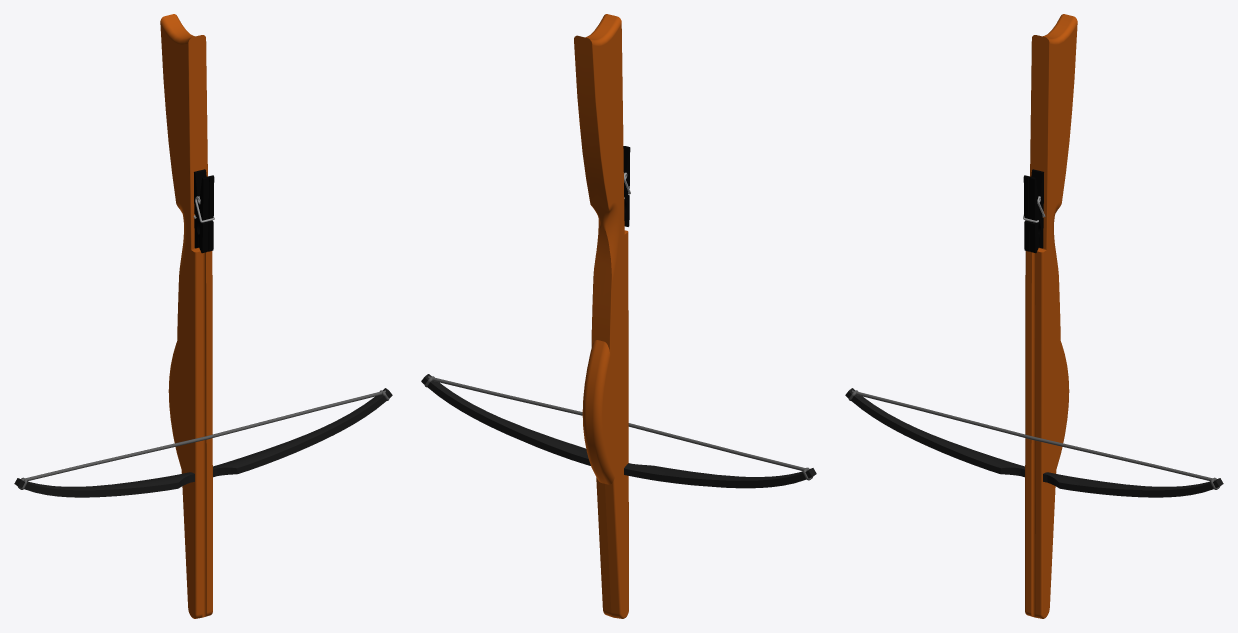
Rendered from АрбалетНеЗар.fbx.
3 views of the same model, side by side, from view 1: azimuth 30°, elevation 25°; view 2: azimuth 150°, elevation 25°; view 3: azimuth 330°, elevation 25° (orthographic). The views are drawn at different scales.
Parts seen in each view (by area): view 1: Основа, Левое плечо (распр), Правое плечо (распр), Тетива (распр), Верх прищепки (распр); view 2: Основа, Левое плечо (распр), Правое плечо (распр), Тетива (распр); view 3: Основа, Правое плечо (распр), Левое плечо (распр), Тетива (распр), Верх прищепки (распр).
Part boxes in pixels (bbox=[...]): Основа: bbox=[160, 14, 212, 618]; Левое плечо (распр): bbox=[213, 388, 392, 477]; Правое плечо (распр): bbox=[14, 472, 194, 497]; Тетива (распр): bbox=[17, 390, 389, 489]; Верх прищепки (распр): bbox=[198, 175, 214, 253]; Основа: bbox=[574, 14, 628, 618]; Левое плечо (распр): bbox=[421, 374, 590, 465]; Правое плечо (распр): bbox=[624, 463, 816, 488]; Тетива (распр): bbox=[424, 376, 812, 480]; Основа: bbox=[1025, 14, 1077, 618]; Правое плечо (распр): bbox=[845, 388, 1024, 477]; Левое плечо (распр): bbox=[1043, 472, 1223, 497]; Тетива (распр): bbox=[848, 390, 1220, 489]; Верх прищепки (распр): bbox=[1023, 175, 1039, 253].
Size of the model in its own units: 62.39 by 92.01 by 11.52.
